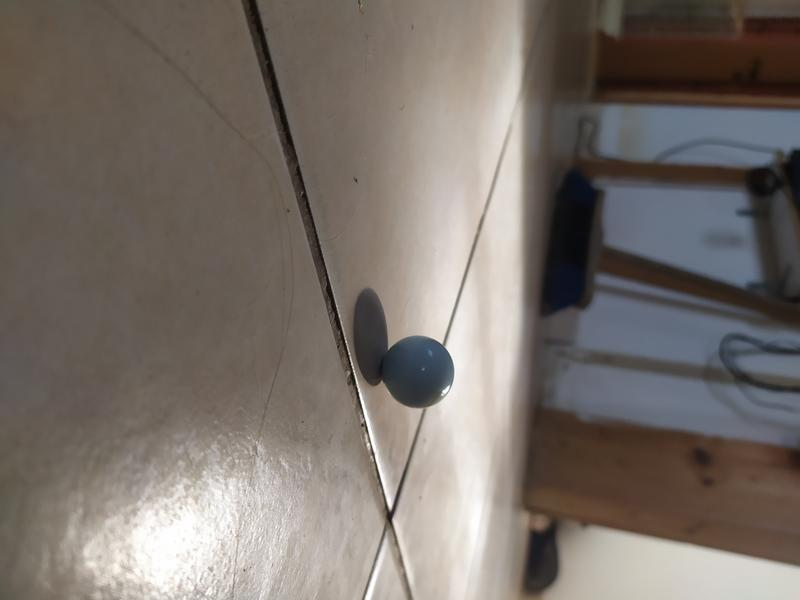Warning: (378, 331, 458, 411)
